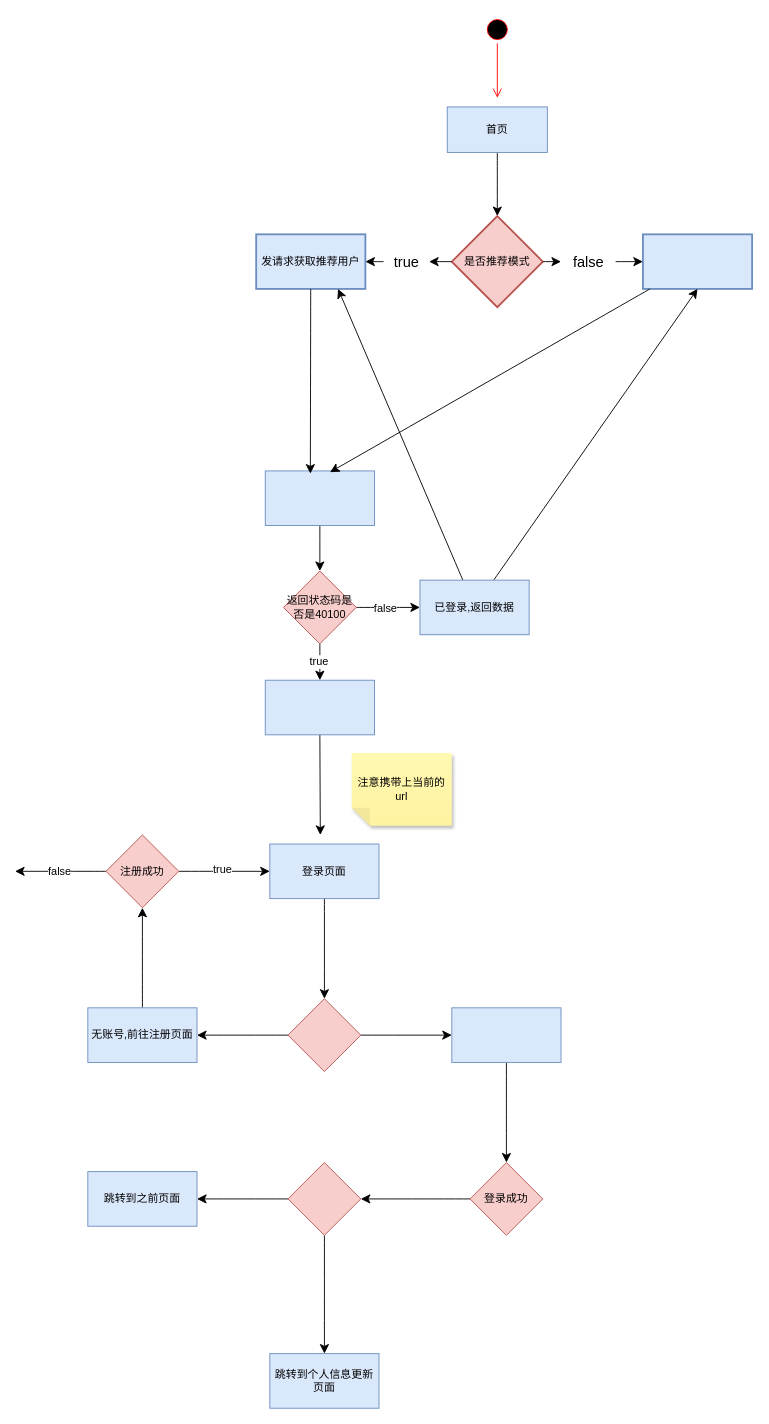
This 769x1424 diagram has some shape labels left out. Here are the shapes that lost their labels. From the top down, the centre of each, then its label:
At [697,261]: "发请求获取全部用户".
At [319,498]: "axios请求已配置响应拦截器".
At [319,707]: "未登录,跳转到登录界面".
At [324,1035]: "有无账号".
At [506,1034]: "有账号,登录".
At [324,1198]: "是否url存在之前的url".
